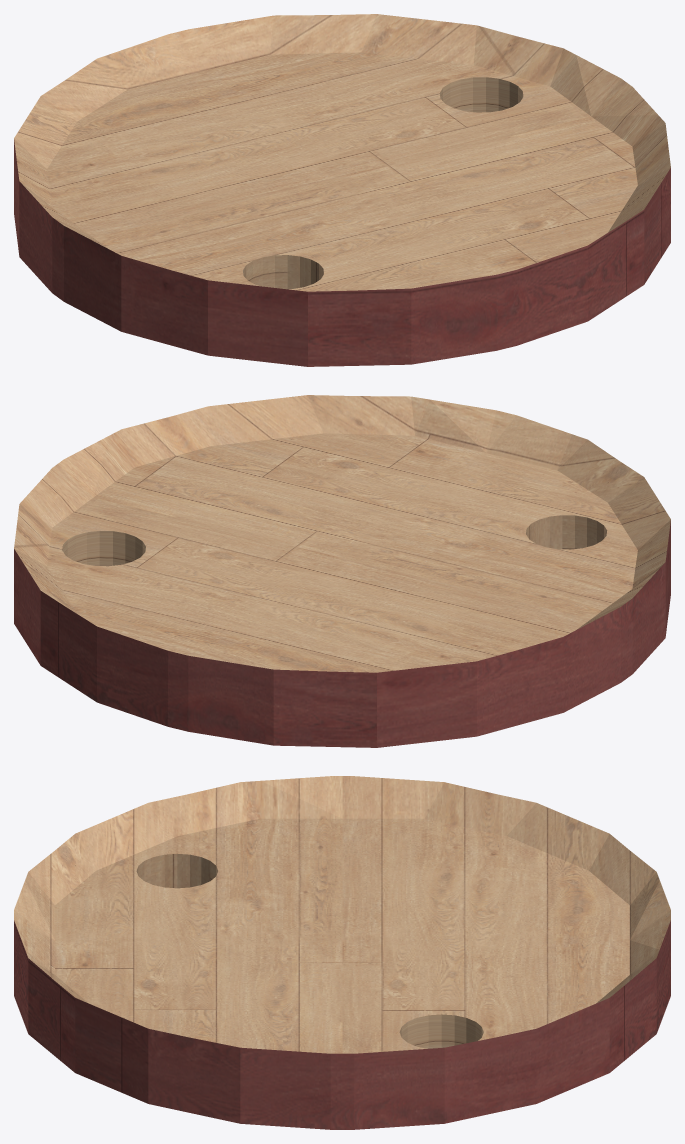
The model's file is Plate 2.fbx.
3 views of the same model, one above another, from view 1: azimuth 30°, elevation 25°; view 2: azimuth 150°, elevation 25°; view 3: azimuth 270°, elevation 25° (orthographic).
Parts seen in each view (by area): view 1: polySurface4; view 2: polySurface4; view 3: polySurface4.
Part boxes in pixels (x1=…): polySurface4: x1=14, y1=14, x2=670, y2=366; polySurface4: x1=14, y1=395, x2=670, y2=747; polySurface4: x1=14, y1=776, x2=670, y2=1129.
Size of the model in its own units: 34.56 by 4.42 by 34.56.
1 material, 1 textured.
